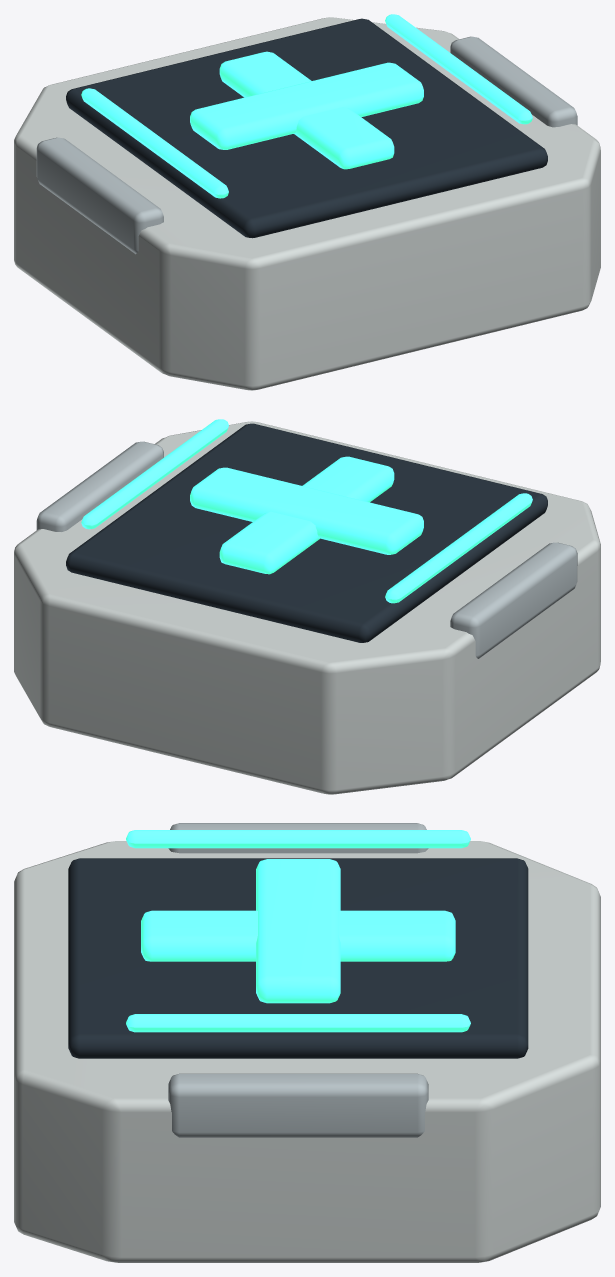
File: RepairPod114.fbx
3 views of the same model, one above another, from view 1: azimuth 30°, elevation 25°; view 2: azimuth 150°, elevation 25°; view 3: azimuth 270°, elevation 25° (orthographic). The views are drawn at different scales.
Visible parts, largest first — view 1: Chamfered rescue case, Equipment face, Repair cross horizontal, Rescue handle, Repair cross vertical, Rescue handle.001, Green identification rail, Green identification rail.001; view 2: Chamfered rescue case, Equipment face, Repair cross horizontal, Rescue handle, Repair cross vertical, Rescue handle.001, Green identification rail.001, Green identification rail; view 3: Chamfered rescue case, Equipment face, Rescue handle.001, Repair cross horizontal, Repair cross vertical, Green identification rail, Green identification rail.001, Rescue handle.
Boxes of the visible parts, box(x1,y1,x2,y2) form: Chamfered rescue case: box(14, 17, 600, 390); Equipment face: box(66, 18, 547, 238); Repair cross horizontal: box(190, 62, 423, 149); Rescue handle: box(36, 137, 163, 254); Repair cross vertical: box(219, 51, 394, 169); Rescue handle.001: box(450, 36, 577, 127); Green identification rail: box(81, 88, 228, 198); Green identification rail.001: box(385, 14, 532, 124); Chamfered rescue case: box(14, 421, 600, 794); Equipment face: box(66, 423, 547, 642); Repair cross horizontal: box(190, 467, 423, 554); Rescue handle: box(450, 542, 577, 658); Repair cross vertical: box(219, 456, 394, 574); Rescue handle.001: box(36, 441, 163, 531); Green identification rail.001: box(81, 419, 228, 529); Green identification rail: box(385, 493, 532, 603); Chamfered rescue case: box(14, 841, 600, 1262); Equipment face: box(68, 858, 528, 1058); Rescue handle.001: box(168, 1073, 428, 1137); Repair cross horizontal: box(256, 859, 340, 1003); Repair cross vertical: box(141, 910, 455, 961); Green identification rail: box(126, 830, 470, 848); Green identification rail.001: box(126, 1014, 470, 1032); Rescue handle: box(168, 823, 428, 853).
Bounding box in the file's own units: 105 × 39.5 × 97.
